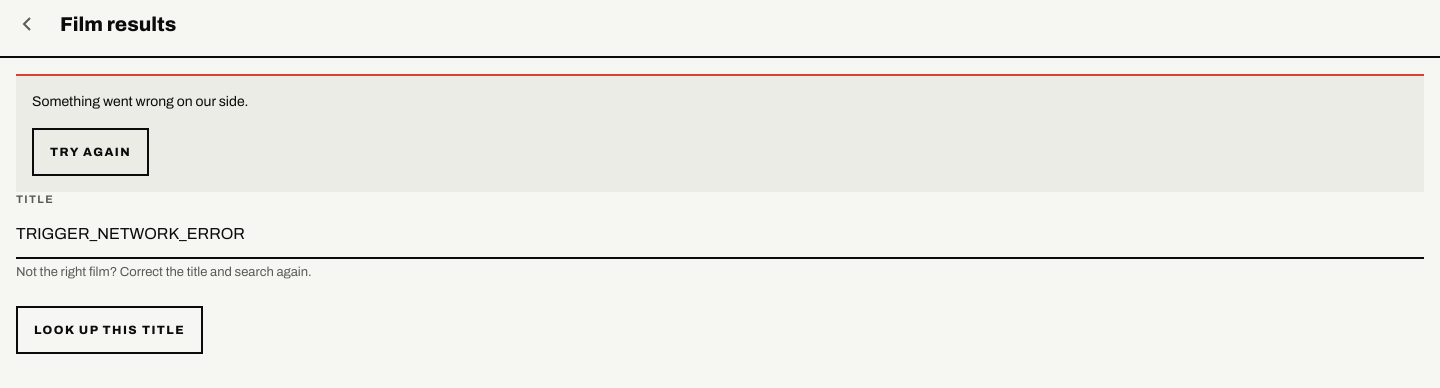
Test: VideoDetectionResults › surfaces a transport failure with a retry control, distinct from a true miss
expect the message shows "Something went wrong": met, box [32,94,248,109]
Click the button "Try again".
click(91, 152)  # box [32,128,149,176]
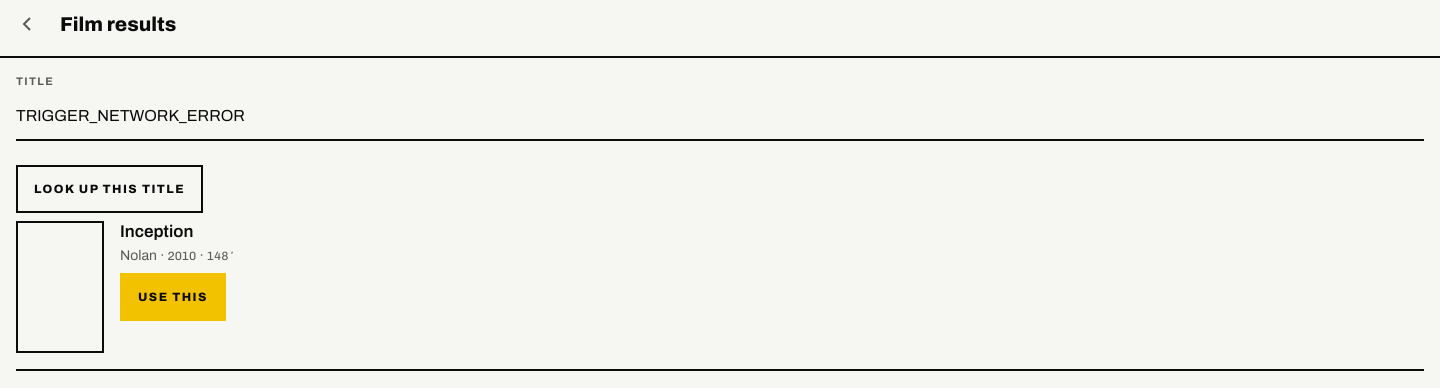
expect the text "Inception" is shown: met, box [120,222,193,241]
